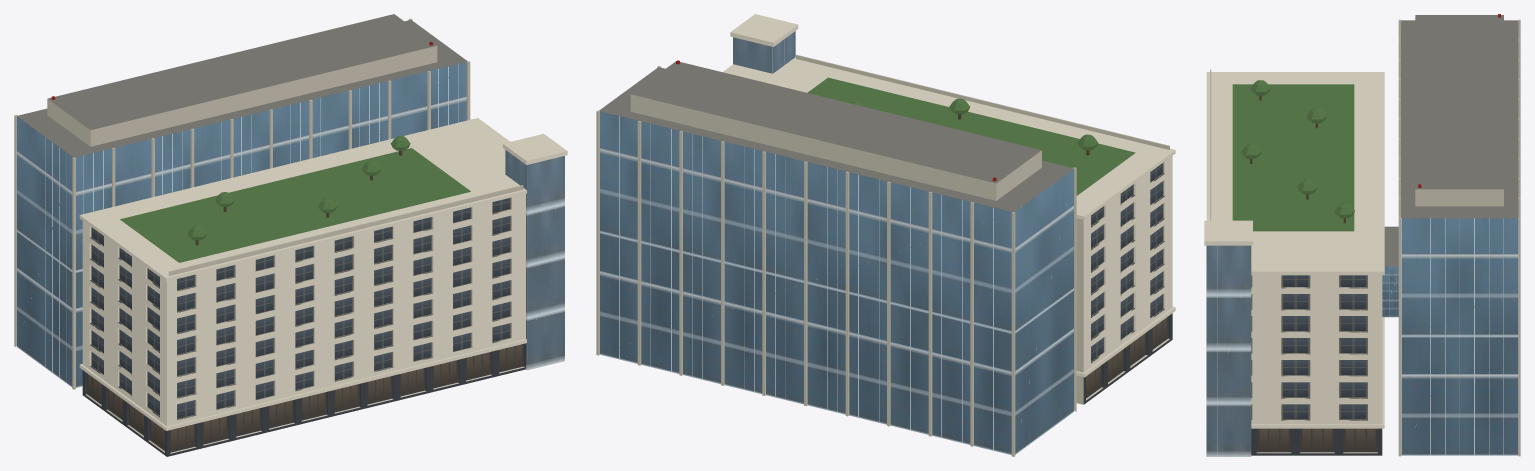
The model's file is mitsukoshi_ginza.glb.
The picture shows the model from 3 angles, left to right: view 1: azimuth 30°, elevation 25°; view 2: azimuth 150°, elevation 25°; view 3: azimuth 270°, elevation 25°; orthographic projection. The views are drawn at different scales.
Parts seen in each view (by area): view 1: mitsukoshi_ginza; view 2: mitsukoshi_ginza; view 3: mitsukoshi_ginza.
Part boxes in pixels (<box>): mitsukoshi_ginza: <box>14,14,567,456</box>; mitsukoshi_ginza: <box>596,14,1175,456</box>; mitsukoshi_ginza: <box>1204,14,1520,456</box>.
Bounding box in the file's own units: 102 × 60.6 × 67.5.
2 materials, 2 textured.
